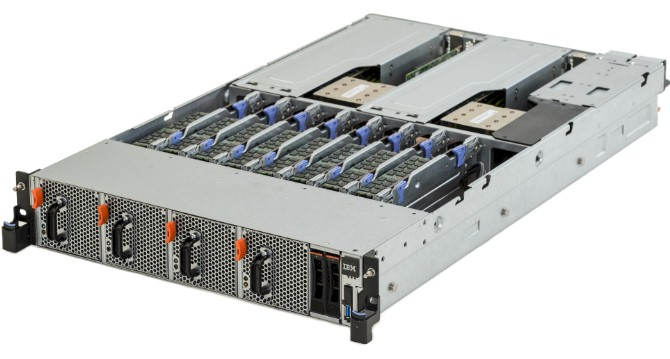ibm-server: (7, 9, 668, 342)
